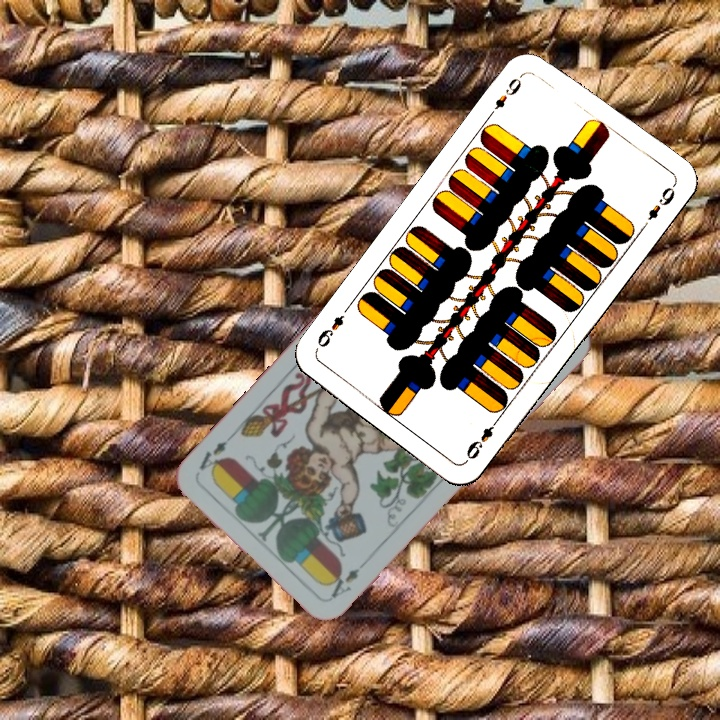E9: (485, 69, 527, 119), (462, 413, 503, 464)
EA: (327, 564, 363, 601)
